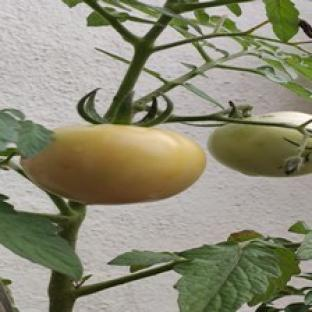Tomato: (21, 124, 206, 204), (208, 124, 303, 176)
